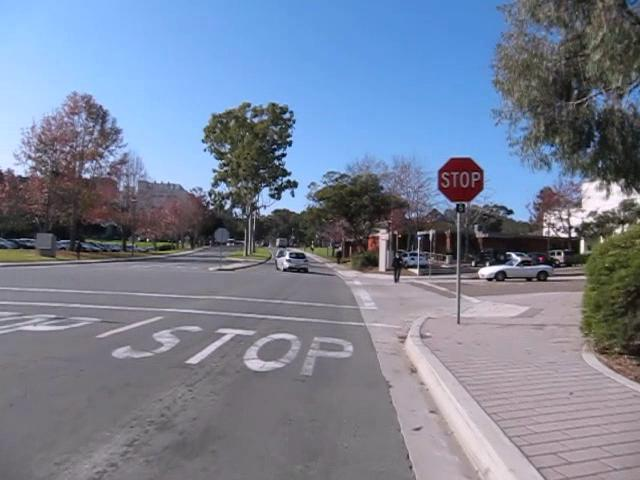stop: (437, 156, 484, 202)
